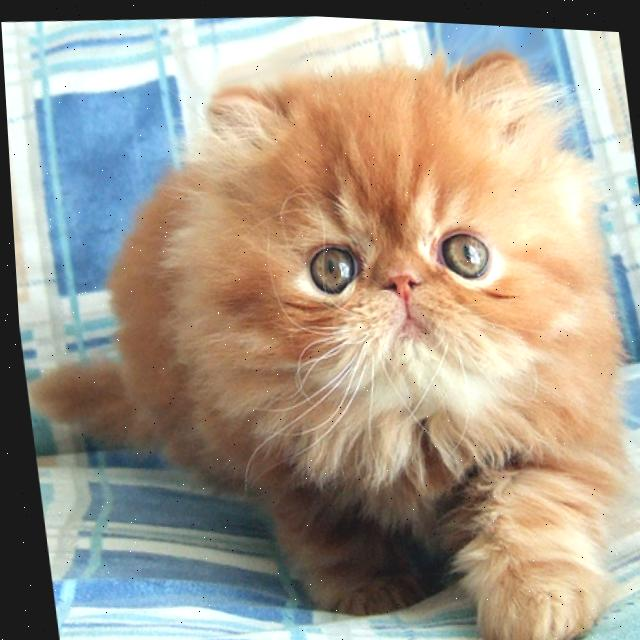Persian: (1, 12, 640, 640)
